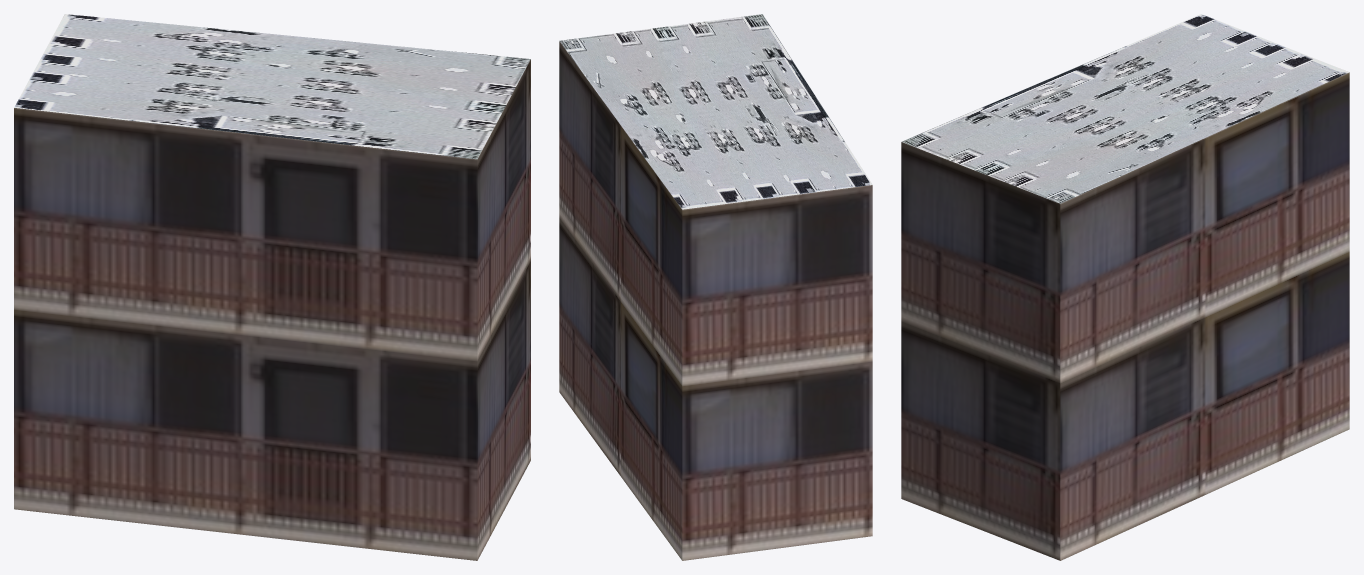
The model's file is ResTex__3424.fbx.
3 views of the same model, side by side, from view 1: azimuth 30°, elevation 25°; view 2: azimuth 150°, elevation 25°; view 3: azimuth 270°, elevation 25° (orthographic). The views are drawn at different scales.
Visible parts, largest first — view 1: CityEngineMaterial_6_m, CityEngineMaterial_m; view 2: CityEngineMaterial_6_m, CityEngineMaterial_m; view 3: CityEngineMaterial_6_m, CityEngineMaterial_m.
Boxes of the visible parts, x1,y1,x2,y2 form: CityEngineMaterial_6_m: (14, 59, 530, 560); CityEngineMaterial_m: (14, 14, 530, 159); CityEngineMaterial_6_m: (559, 41, 872, 560); CityEngineMaterial_m: (559, 14, 872, 209); CityEngineMaterial_6_m: (901, 72, 1349, 560); CityEngineMaterial_m: (901, 14, 1349, 203).
Bounding box in the file's own units: 6.84 × 6 × 6.83.
2 materials, 2 textured.
